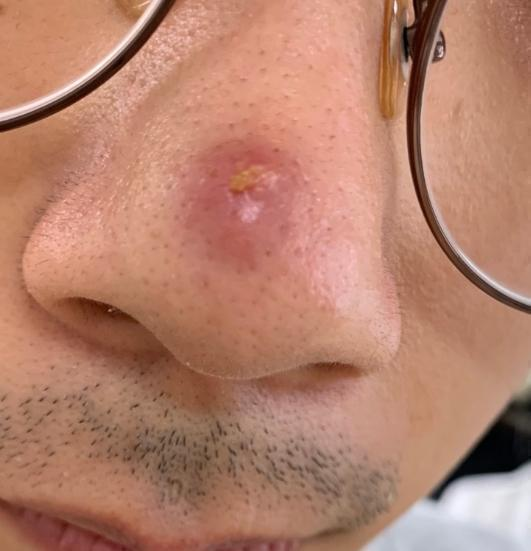cystic: (179, 112, 320, 291)
